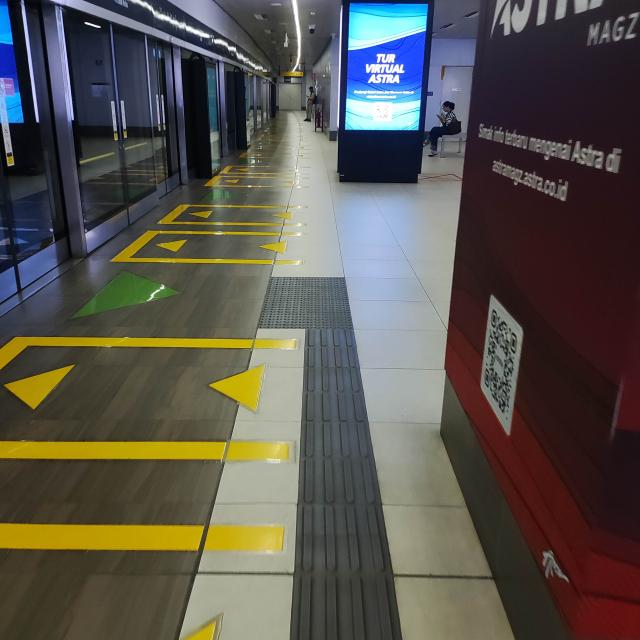lurus: (288, 317, 400, 640)
